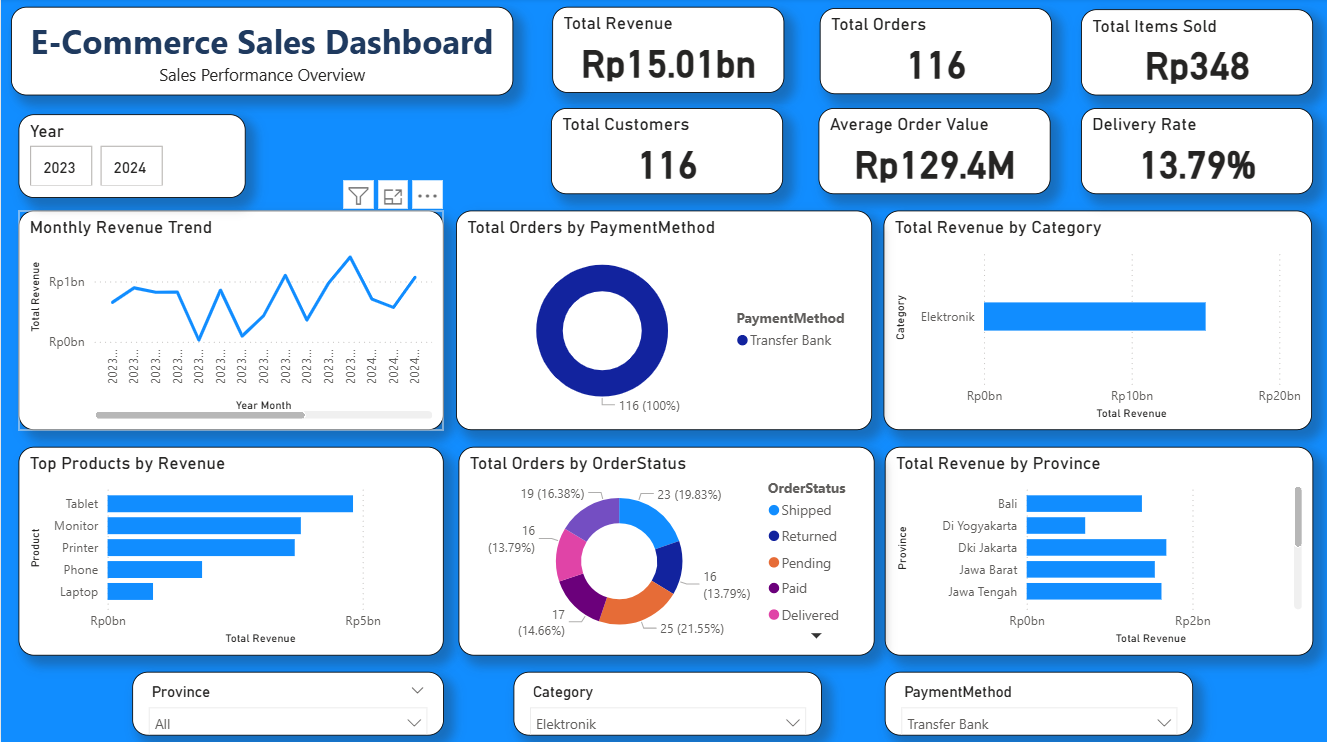

What the dashboard file says about the page in this screenshot:
{"tool":"powerbi","page":{"name":"ESD","canvas":[1280,720],"ordinal":0},"visuals":[{"type":"textbox","box":[9.7,8.4,485,85.7],"z":0},{"type":"card","title":"Total Revenue","fields":{"Values":["Sales.Total Revenue"]},"box":[531.8,8.7,224.4,83.2],"z":1000},{"type":"card","title":"Total Orders","fields":{"Values":["Sales.Total Orders"]},"box":[790,9.9,224.4,83.2],"z":2000},{"type":"card","title":"Total Items Sold","fields":{"Values":["Sales.Total Items Sold"]},"box":[1042.1,11.1,224.4,83.2],"z":3000},{"type":"card","title":"Total Customers","fields":{"Values":["Sales.Total Customers"]},"box":[531.3,105.9,224.4,83.2],"z":4000},{"type":"card","title":"Average Order Value","fields":{"Values":["Sales.Average Order Value"]},"box":[789.5,105.9,224.4,83.2],"z":5000},{"type":"lineChart","title":"Monthly Revenue Trend","fields":{"Y":["Sales.Total Revenue"],"Category":["Dim_Date.Year Month"]},"box":[16.9,205.1,410.2,212.3],"z":6000},{"type":"clusteredBarChart","fields":{"Category":["Sales.Category"],"Y":["Sales.Total Revenue"]},"box":[851.7,205.1,413.8,212.3],"z":7000},{"type":"clusteredBarChart","title":"Top Products by Revenue","fields":{"Category":["Sales.Product"],"Y":["Sales.Total Revenue"]},"box":[16.9,433.1,410.2,201.5],"z":8000},{"type":"clusteredBarChart","fields":{"Category":["Sales.Province"],"Y":["Sales.Total Revenue"]},"box":[853,433.1,413.8,201.5],"z":9000},{"type":"donutChart","fields":{"Category":["Sales.PaymentMethod"],"Y":["Sales.Total Orders"]},"box":[439.1,205.1,401.7,212.3],"z":10000},{"type":"donutChart","fields":{"Category":["Sales.OrderStatus"],"Y":["Sales.Total Orders"]},"box":[441.6,433.1,401.7,201.5],"z":11000},{"type":"card","title":"Delivery Rate","fields":{"Values":["Sales.Delivery Rate"]},"box":[1042.1,106.4,224.4,83.2],"z":12000},{"type":"advancedSlicerVisual","fields":{"Values":["Dim_Date.Year"]},"box":[16.9,112.2,219.6,80.8],"z":13000},{"type":"slicer","fields":{"Values":["Sales.Province"]},"box":[126.7,650.3,300.4,61.5],"z":14000},{"type":"slicer","fields":{"Values":["Sales.Category"]},"box":[494.6,650.3,298,61.5],"z":15000},{"type":"slicer","fields":{"Values":["Sales.PaymentMethod"]},"box":[853,650.3,298,61.5],"z":16000}]}

Visuals, with their boxes in screenshot pixels (x1, y1, x2, y2), scaled from the page's 1280x720 canvas onto the 1327x742 screenshot:
textbox: <box>10,9,513,97</box>
"Total Revenue" card: <box>551,9,784,95</box>
"Total Orders" card: <box>819,10,1052,96</box>
"Total Items Sold" card: <box>1080,11,1313,97</box>
"Total Customers" card: <box>551,109,783,195</box>
"Average Order Value" card: <box>818,109,1051,195</box>
"Monthly Revenue Trend" lineChart: <box>18,211,443,430</box>
clusteredBarChart - Sales.Category x Sales.Total Revenue: <box>883,211,1312,430</box>
"Top Products by Revenue" clusteredBarChart: <box>18,446,443,654</box>
clusteredBarChart - Sales.Province x Sales.Total Revenue: <box>884,446,1313,654</box>
donutChart - Sales.PaymentMethod x Sales.Total Orders: <box>455,211,872,430</box>
donutChart - Sales.OrderStatus x Sales.Total Orders: <box>458,446,874,654</box>
"Delivery Rate" card: <box>1080,110,1313,195</box>
advancedSlicerVisual - Dim_Date.Year: <box>18,116,245,199</box>
slicer - Sales.Province: <box>131,670,443,734</box>
slicer - Sales.Category: <box>513,670,822,734</box>
slicer - Sales.PaymentMethod: <box>884,670,1193,734</box>
